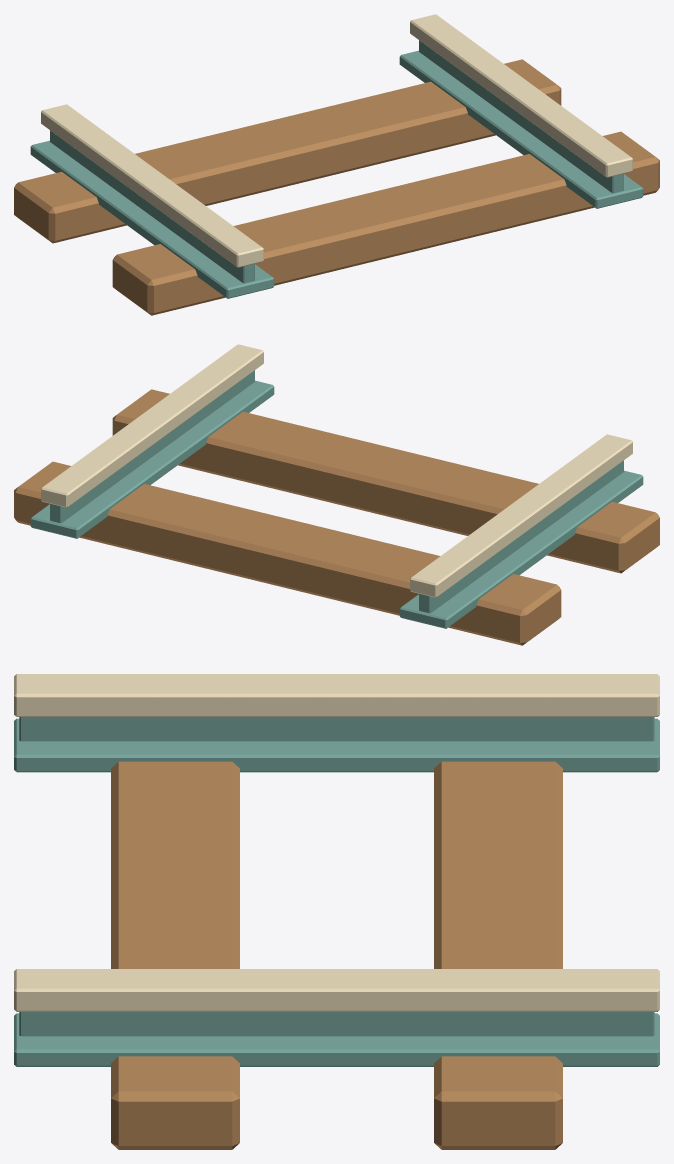
The picture shows the model from 3 angles, top to bottom: view 1: azimuth 30°, elevation 25°; view 2: azimuth 150°, elevation 25°; view 3: azimuth 270°, elevation 25°; orthographic projection. The views are drawn at different scales.
Parts seen in each view (by area): view 1: Sleeper_A, Sleeper_B, RailHead_R, RailHead_L, RailFoot_R, RailFoot_L, RailWeb_L, RailWeb_R; view 2: Sleeper_B, Sleeper_A, RailHead_R, RailHead_L, RailFoot_R, RailFoot_L, RailWeb_L, RailWeb_R; view 3: Sleeper_A, Sleeper_B, RailHead_L, RailHead_R, RailFoot_L, RailFoot_R, RailWeb_L, RailWeb_R.
Part boxes in pixels (x1,y1,x2,y2): Sleeper_A: [112, 131, 659, 315]; Sleeper_B: [14, 59, 561, 243]; RailHead_R: [410, 14, 632, 177]; RailHead_L: [41, 104, 263, 267]; RailFoot_R: [399, 50, 643, 208]; RailFoot_L: [30, 140, 274, 298]; RailWeb_L: [50, 130, 254, 283]; RailWeb_R: [419, 40, 623, 193]; Sleeper_B: [14, 461, 561, 645]; Sleeper_A: [112, 389, 659, 573]; RailHead_R: [41, 344, 263, 507]; RailHead_L: [410, 434, 632, 597]; RailFoot_R: [30, 380, 274, 538]; RailFoot_L: [399, 470, 643, 628]; RailWeb_L: [419, 460, 623, 613]; RailWeb_R: [50, 370, 254, 523]; Sleeper_A: [111, 761, 239, 1149]; Sleeper_B: [434, 761, 562, 1149]; RailHead_L: [14, 674, 659, 716]; RailHead_R: [14, 969, 659, 1011]; RailFoot_L: [14, 718, 659, 772]; RailFoot_R: [14, 1013, 659, 1066]; RailWeb_L: [19, 717, 654, 741]; RailWeb_R: [19, 1012, 654, 1036].
Bounding box in the file's own units: 1.5 × 0.2 × 1.
